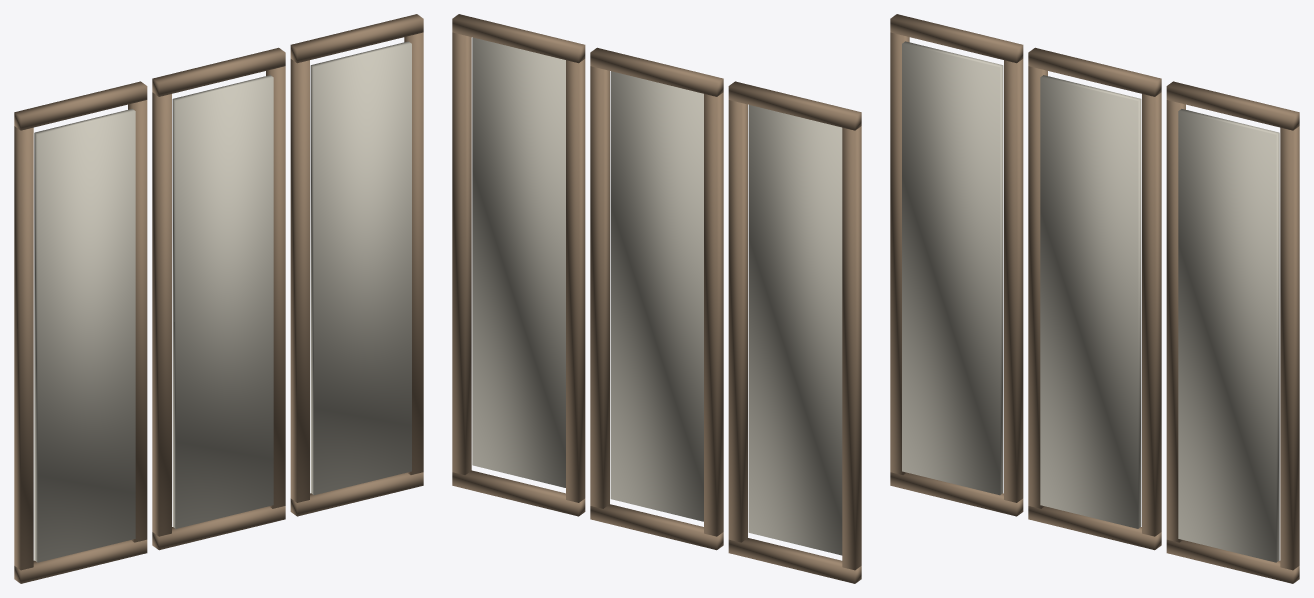
The model's file is funeral_folding_screen.glb.
3 renders of one model, left to right at view 1: azimuth 30°, elevation 25°; view 2: azimuth 150°, elevation 25°; view 3: azimuth 330°, elevation 25°, orthographic.
Visible parts, largest first — view 1: world; view 2: world; view 3: world.
Part boxes in pixels (<box>): world: <box>14,14,423,583</box>; world: <box>452,14,861,583</box>; world: <box>890,14,1299,583</box>.
Size of the model in its own units: 1.4 by 1.55 by 0.055.
